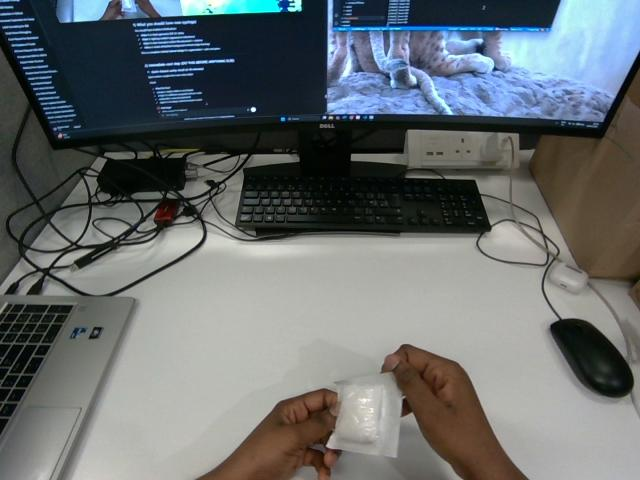gauze: (326, 373, 401, 456), (121, 0, 136, 12)
